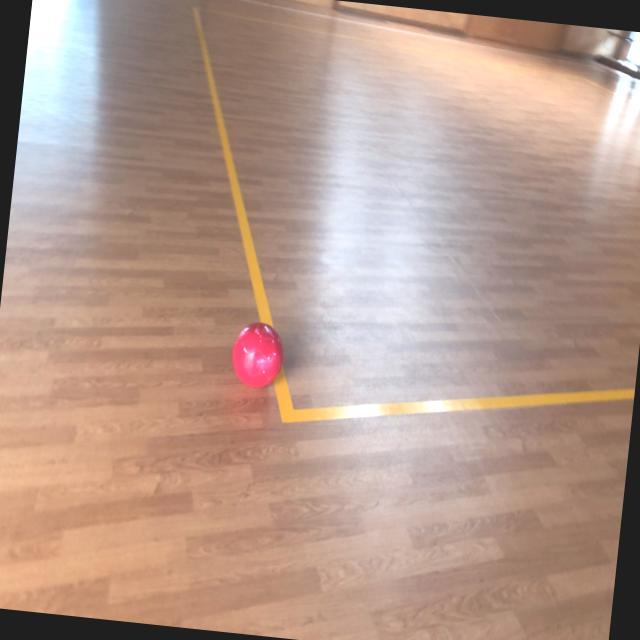red_ball: (228, 318, 286, 389)
